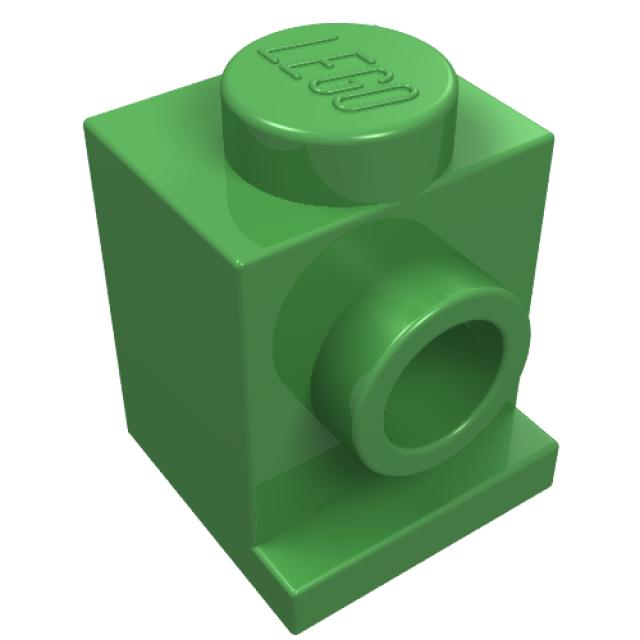Green_Small: (82, 22, 561, 636)
